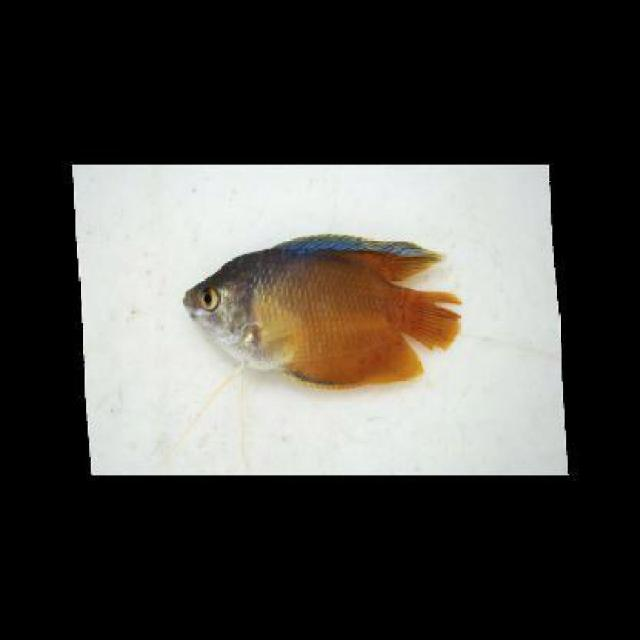Gourami: (180, 222, 463, 387)
